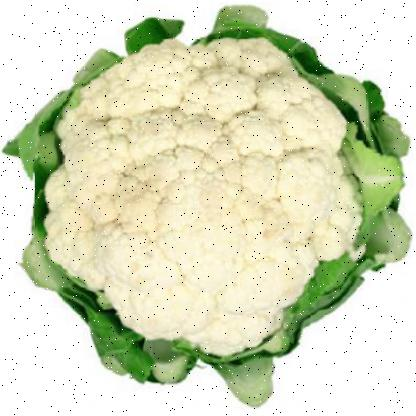cauliflower: (34, 23, 380, 345)
